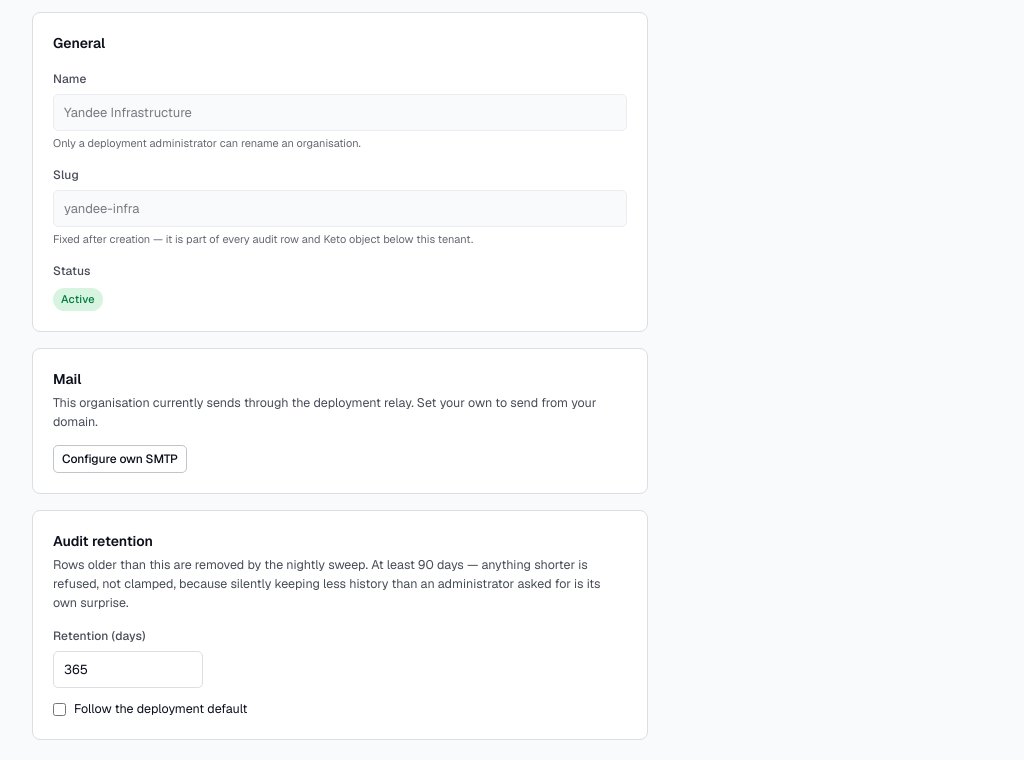
it: audit retention › says in words what the server refuses, instead of a bare "could not save"
(page scrolled)
Replace the text in the number field labelled "Retention (days)" with "30": x=128, y=669 x1=53 y1=651 x2=203 y2=688
(page scrolled)
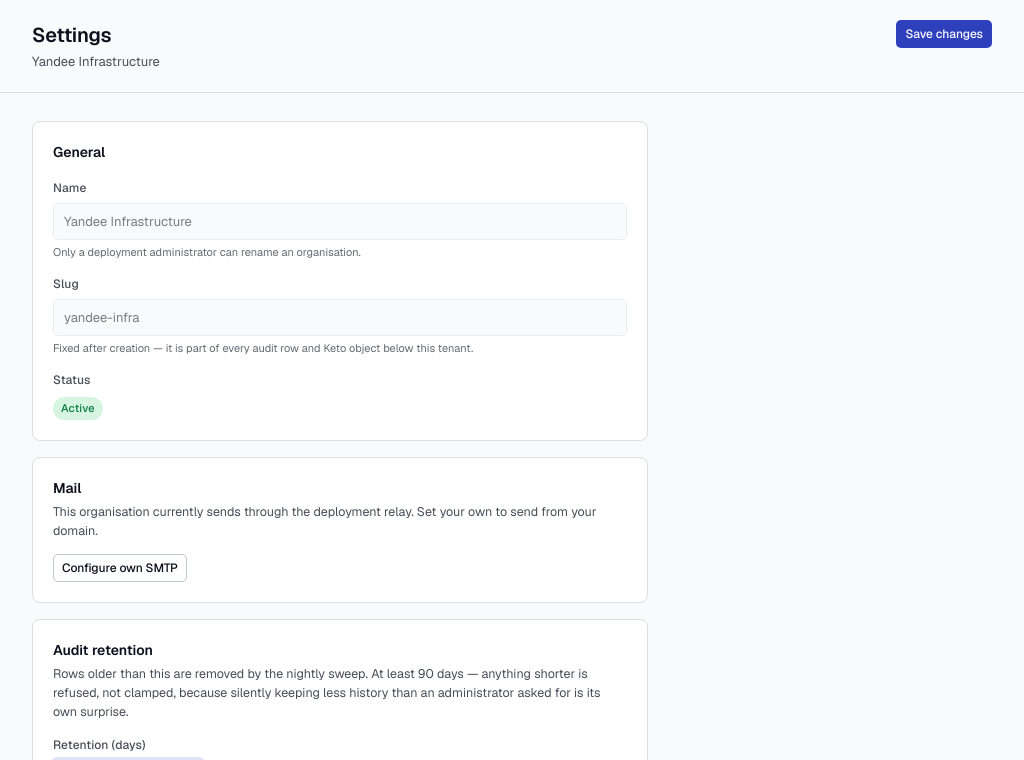
Click the button "Save changes": x=944, y=34 x1=896 y1=20 x2=992 y2=48
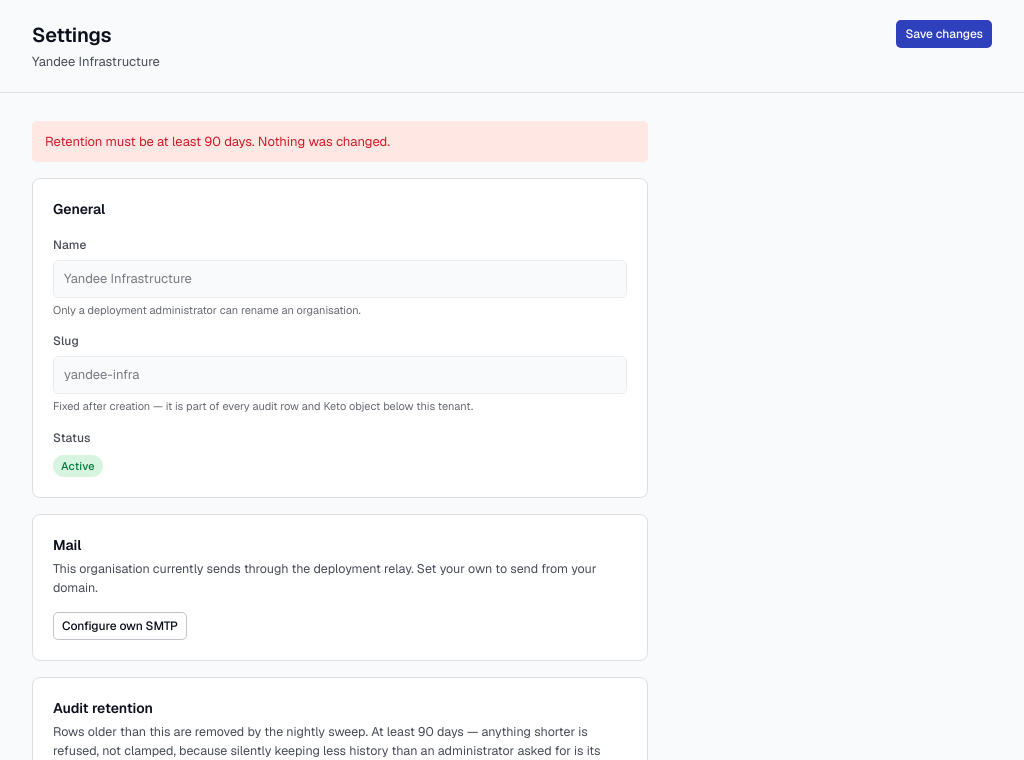
Check: the text "Retention must be at least 90 days. Nothing was changed." is shown, box x1=32 y1=120 x2=648 y2=162
